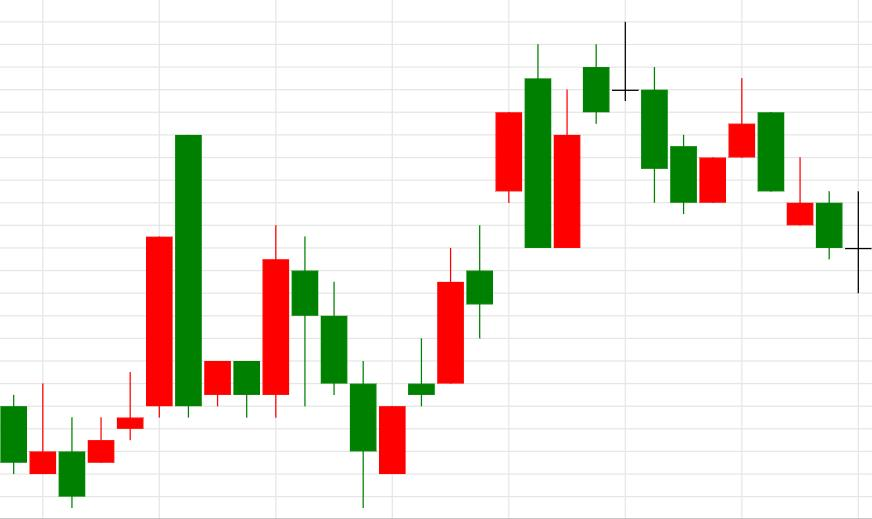bearish_engulfing_fall: (379, 43, 552, 475), (58, 135, 202, 508)
